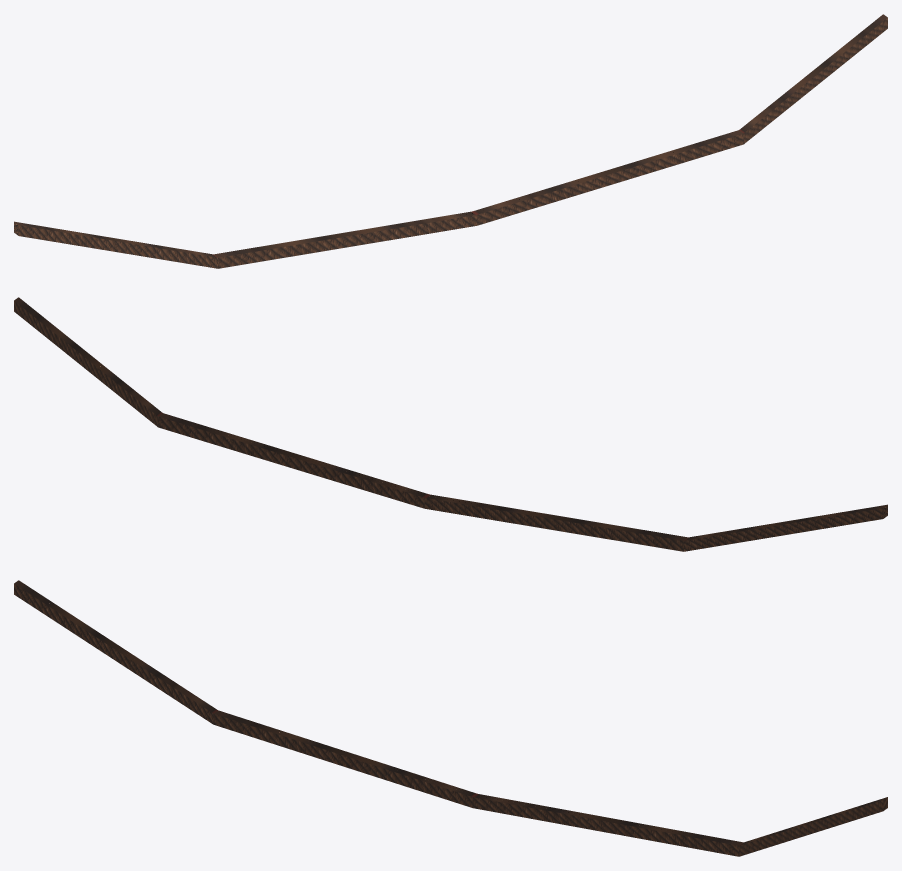
File: RobeWreath_Art.fbx
3 views of the same model, one above another, from view 1: azimuth 30°, elevation 25°; view 2: azimuth 150°, elevation 25°; view 3: azimuth 330°, elevation 25° (orthographic).
Visible parts, largest first — view 1: RobeWreath_Art; view 2: RobeWreath_Art; view 3: RobeWreath_Art.
Part boxes in pixels (x1,y1,x2,y2): RobeWreath_Art: (14,14,887,268); RobeWreath_Art: (14,297,887,551); RobeWreath_Art: (14,580,887,856).
Bounding box in the file's own units: 6.66 × 0.8246 × 0.0621.
